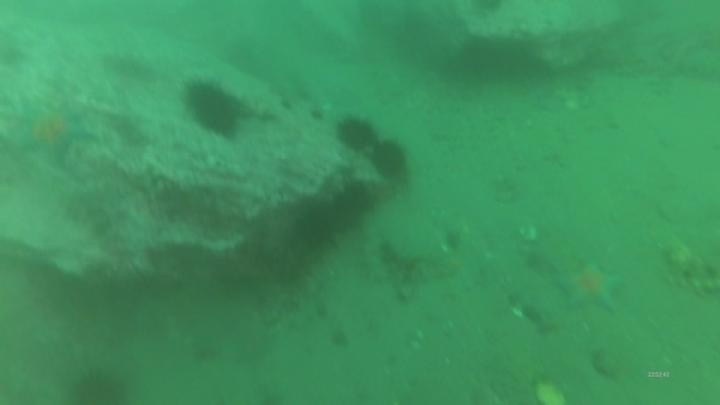echinus: (325, 179, 376, 233), (290, 198, 339, 252), (68, 366, 130, 405), (190, 100, 246, 141), (179, 70, 235, 111), (368, 138, 410, 183), (334, 114, 379, 154)
holothurian: (658, 235, 720, 299), (100, 48, 159, 82)
starfish: (8, 97, 98, 169), (553, 259, 625, 316)
